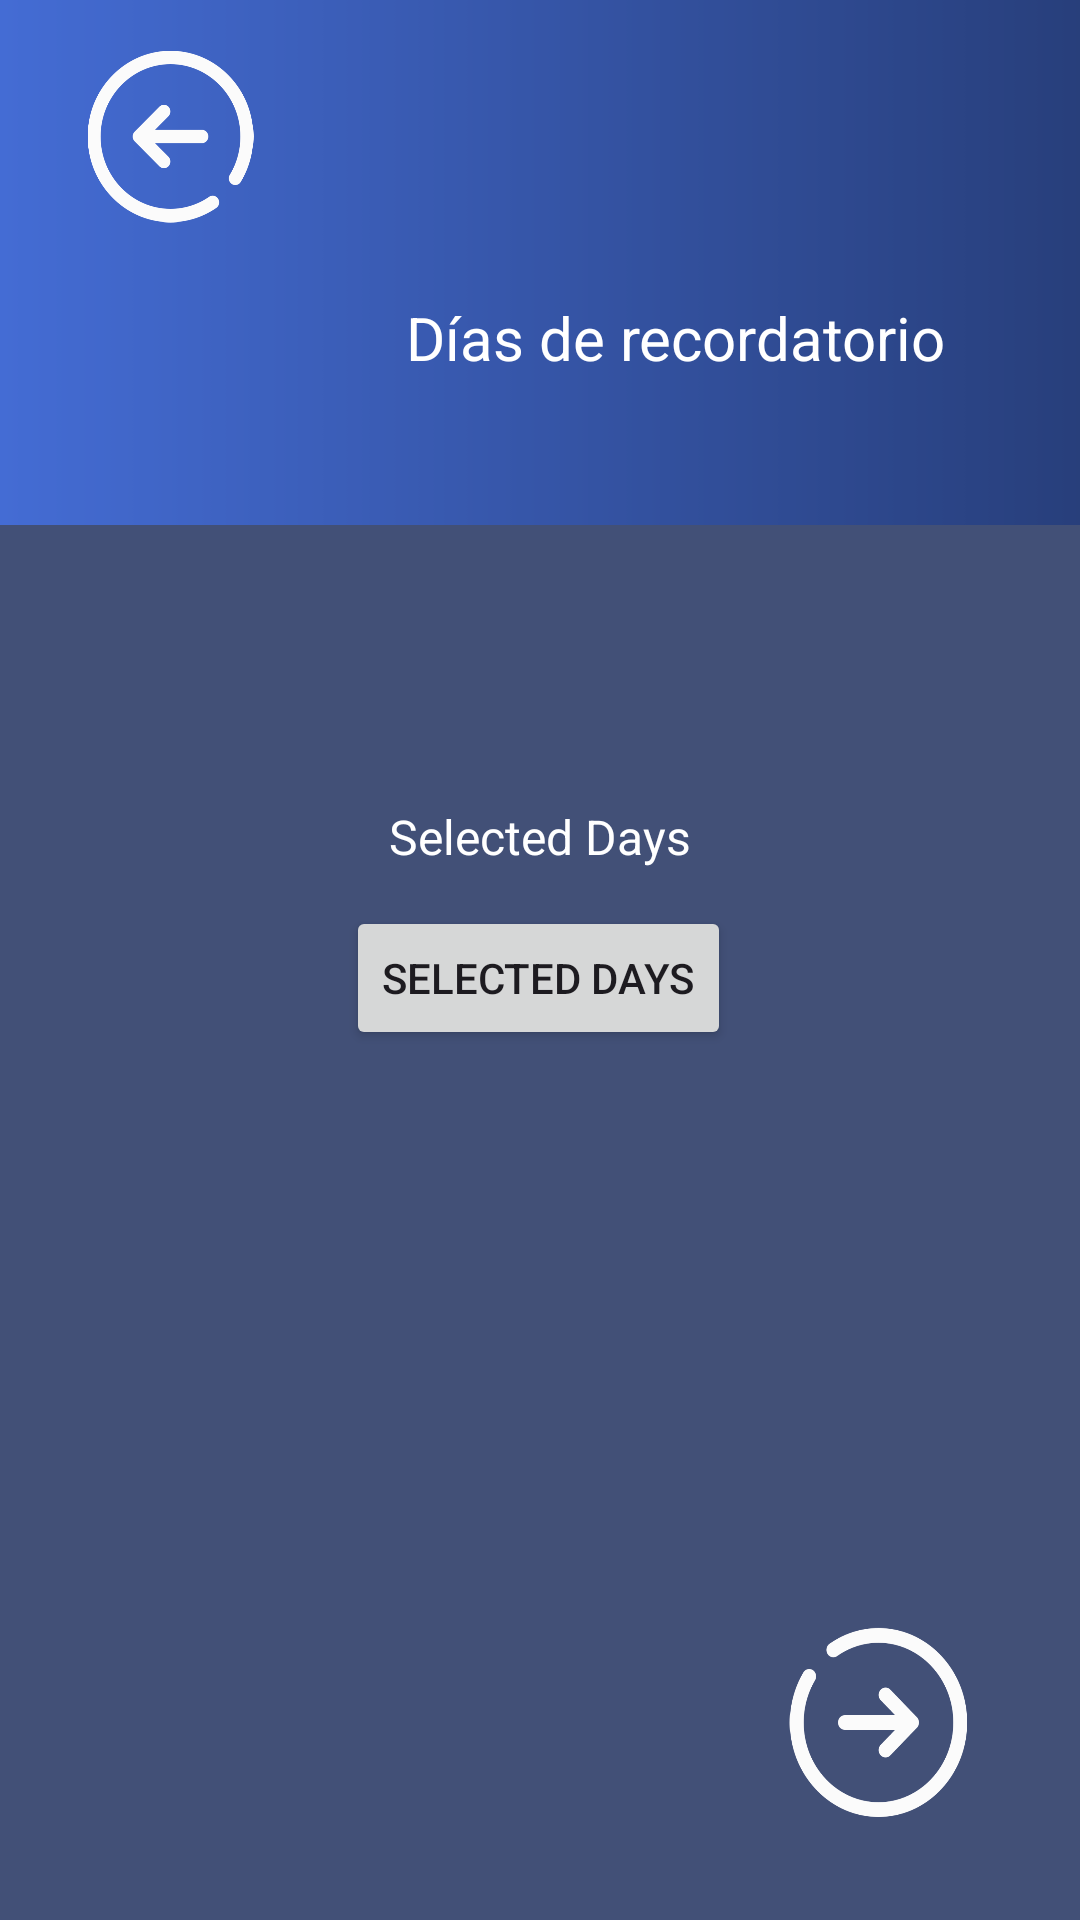

Named icons in this screenshot (1080*1920) and their bounding boxes, (x1, y1, x2, y2):
siguiente: (789, 1628, 967, 1817)
